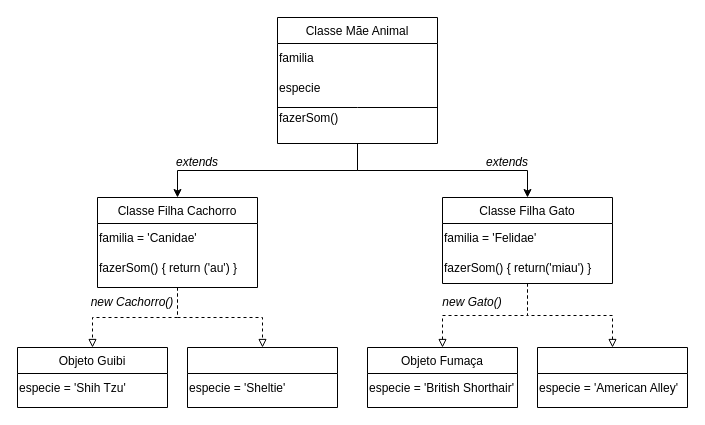
This 705x425 diagram has some shape labels left out. Each missing label, with the box of its shape:
Objeto Angela: (536, 346, 688, 408)
Objeto Sissi: (186, 346, 338, 408)
